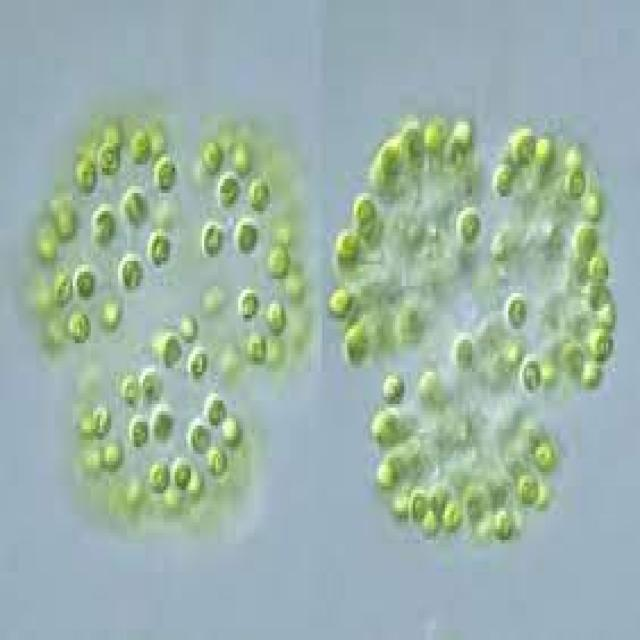Green Algae: (118, 182, 148, 229), (508, 122, 536, 172), (340, 322, 366, 372), (518, 354, 544, 400), (234, 215, 261, 258), (336, 225, 363, 268), (572, 218, 599, 261), (454, 207, 483, 247), (118, 250, 145, 290), (61, 307, 91, 343), (449, 332, 476, 372), (379, 136, 402, 182), (200, 218, 224, 261), (588, 250, 613, 290), (506, 293, 531, 333), (515, 468, 540, 508), (150, 157, 177, 193), (148, 228, 175, 264), (379, 372, 406, 408), (96, 139, 120, 179), (91, 204, 111, 250), (247, 175, 270, 215), (565, 164, 588, 204), (88, 401, 114, 436), (152, 404, 175, 443), (186, 340, 209, 379), (356, 197, 379, 236), (72, 264, 98, 296), (52, 272, 75, 308), (490, 504, 513, 540), (488, 164, 513, 197), (170, 458, 193, 493), (186, 422, 211, 454), (200, 136, 222, 172), (266, 243, 288, 279), (411, 490, 433, 526), (159, 332, 181, 368), (73, 154, 93, 193), (206, 443, 227, 479), (247, 329, 268, 365), (261, 300, 284, 332), (592, 332, 615, 364), (216, 172, 236, 208), (125, 414, 145, 450), (327, 286, 347, 322), (236, 290, 259, 318), (148, 458, 166, 493), (443, 501, 463, 529)
